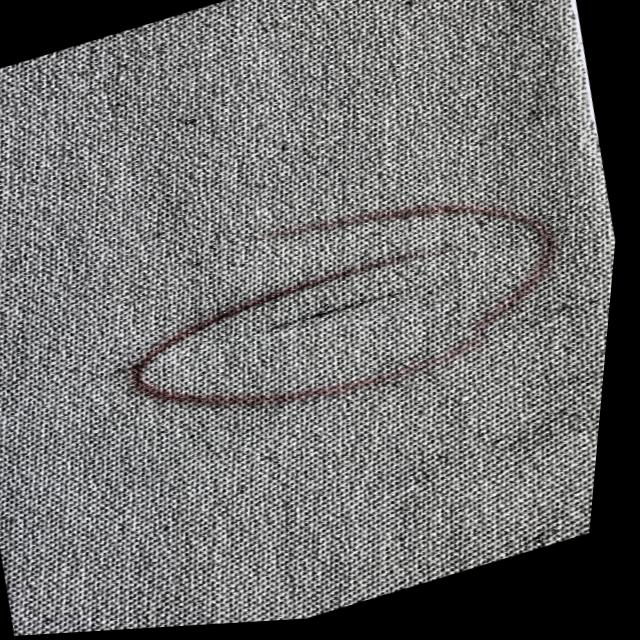Hole: (316, 303, 355, 327), (393, 322, 400, 328), (429, 297, 437, 302)
